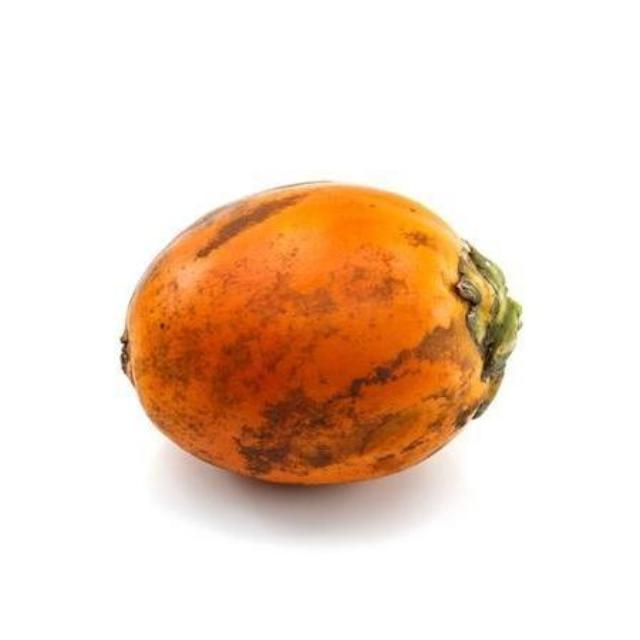good: (121, 182, 522, 488)
